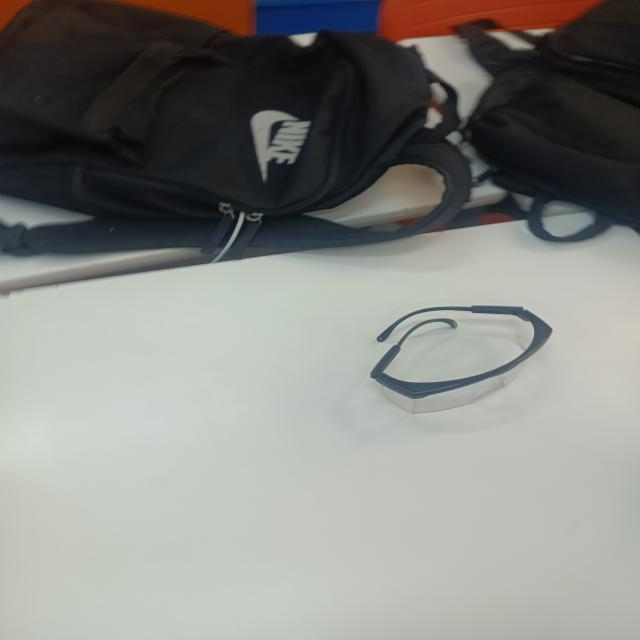oculos-epi: (371, 305, 553, 413)
